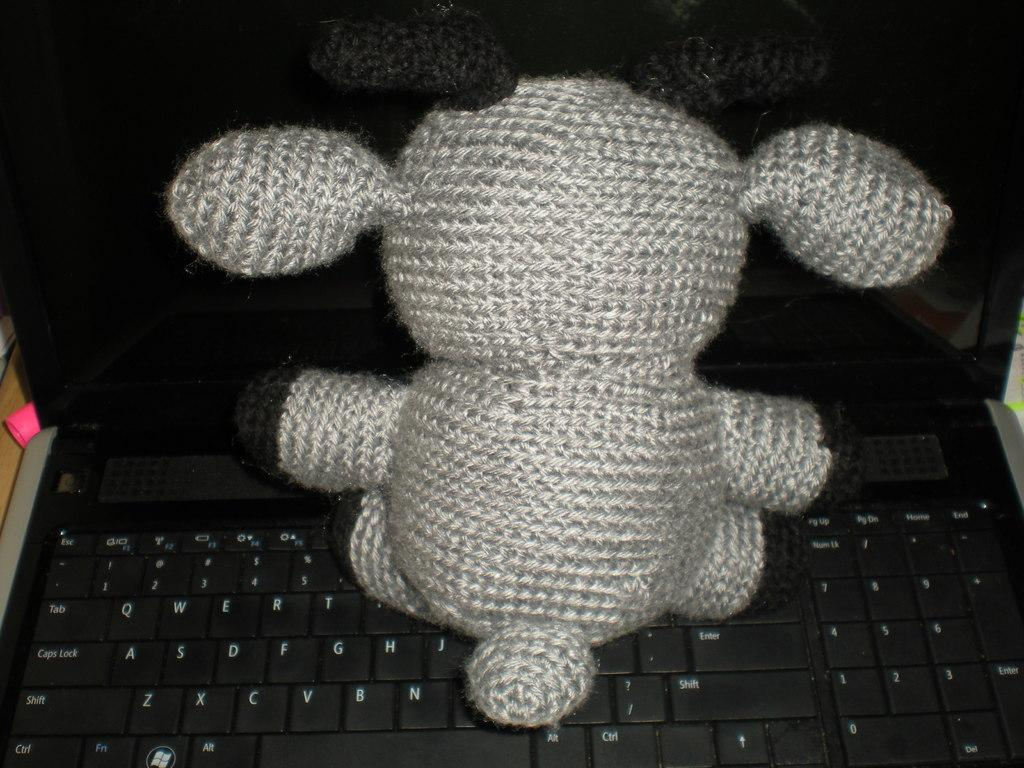Computer-keyboard: (0, 492, 1023, 767)
